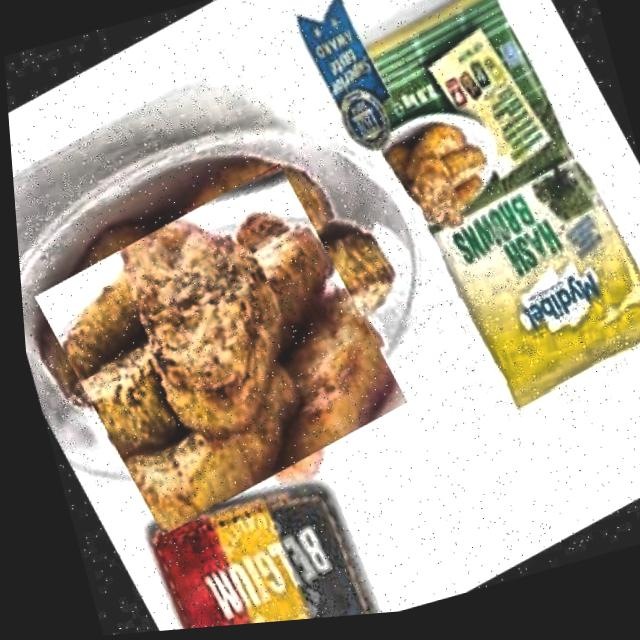Food: (10, 148, 420, 557)
